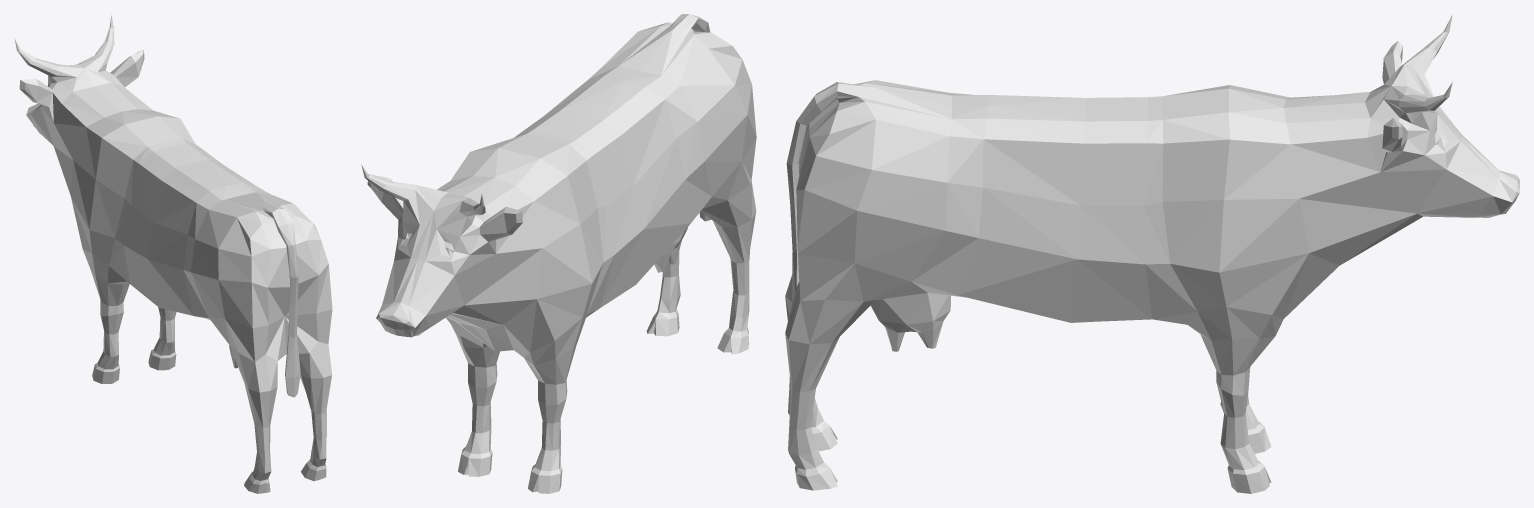
The model's file is Cow_noanim5_resized.glb.
3 renders of one model, left to right at view 1: azimuth 30°, elevation 25°; view 2: azimuth 150°, elevation 25°; view 3: azimuth 270°, elevation 25°, orthographic. The views are drawn at different scales.
Size of the model in its own units: 39.32 by 88.53 by 140.
5 materials, 5 textured.
